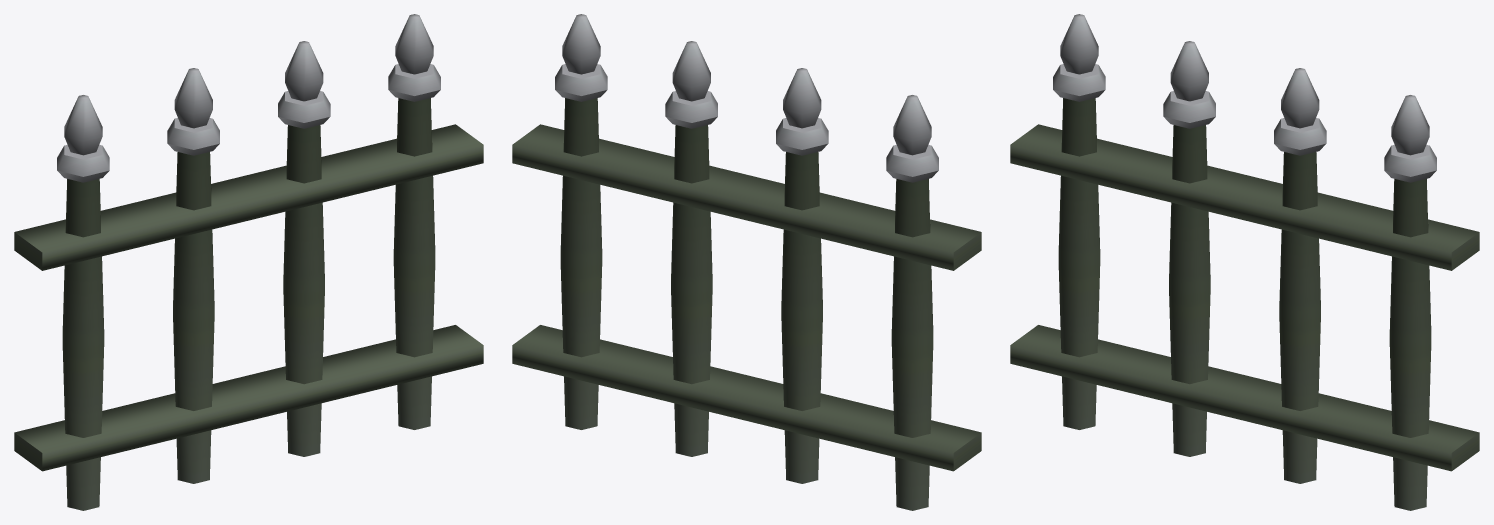
The model's file is iron-fence.glb.
3 renders of one model, left to right at view 1: azimuth 30°, elevation 25°; view 2: azimuth 150°, elevation 25°; view 3: azimuth 330°, elevation 25°, orthographic.
Parts seen in each view (by area): view 1: iron-fence; view 2: iron-fence; view 3: iron-fence.
Boxes of the visible parts, left/top/right/bottom form: iron-fence: left=14, top=14, right=483, bottom=510; iron-fence: left=512, top=14, right=981, bottom=510; iron-fence: left=1010, top=14, right=1479, bottom=510.
Size of the model in its own units: 1.5 by 1.32 by 0.165.
Materials: 1 (1 with a texture image).
